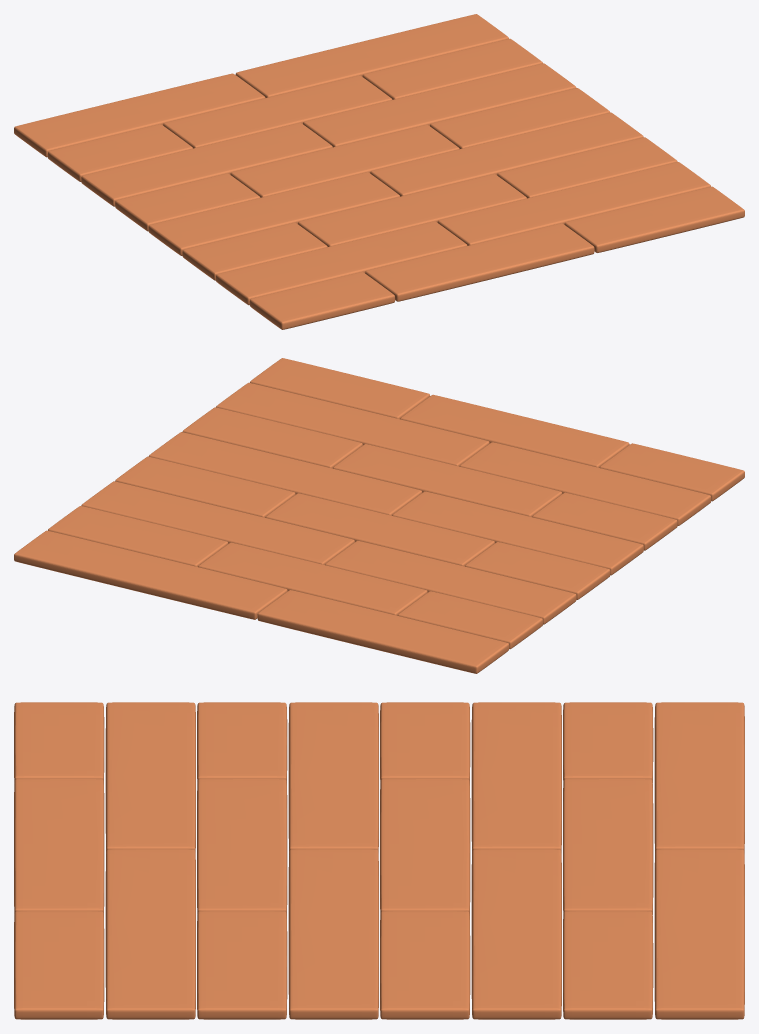
The model's file is WOODEN floor.fbx.
3 renders of one model, top to bottom at view 1: azimuth 30°, elevation 25°; view 2: azimuth 150°, elevation 25°; view 3: azimuth 270°, elevation 25°, orthographic. The views are drawn at different scales.
Parts seen in each view (by area): view 1: Plane; view 2: Plane; view 3: Plane.
Boxes of the visible parts, x1,y1,x2,y2 form: Plane: (14, 14, 744, 329); Plane: (14, 358, 744, 673); Plane: (14, 702, 744, 1019).
Bounding box in the file's own units: 1353 × 24.87 × 1358.
